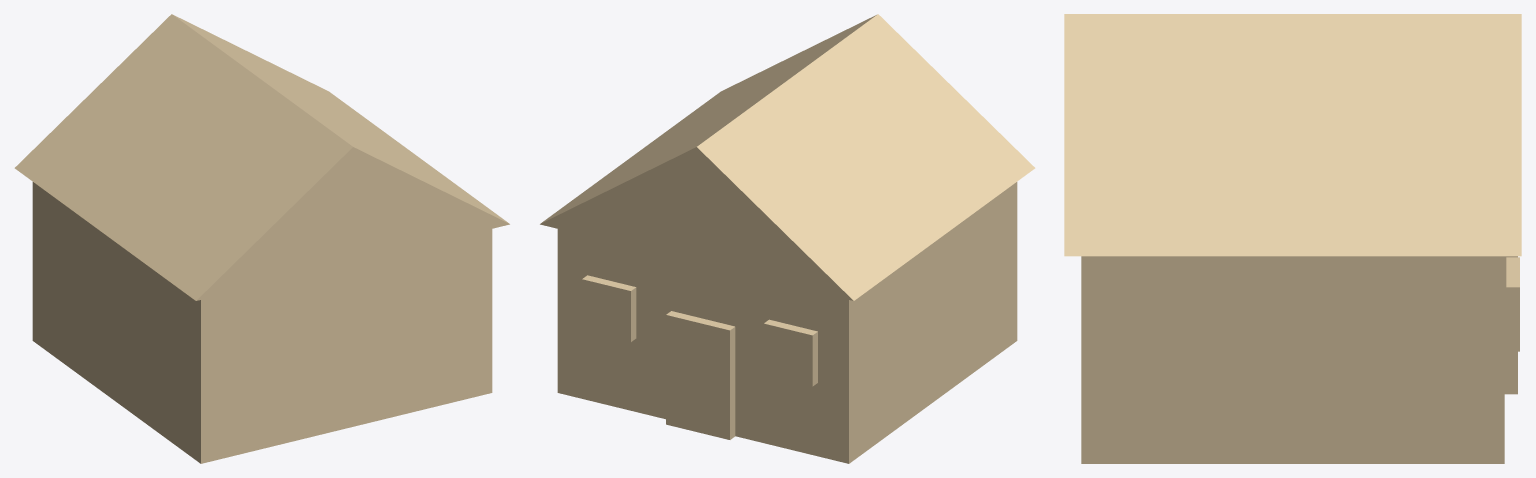
File: demo-house.glb
3 renders of one model, left to right at view 1: azimuth 30°, elevation 25°; view 2: azimuth 150°, elevation 25°; view 3: azimuth 270°, elevation 25°, orthographic. The views are drawn at different scales.
Parts seen in each view (by area): view 1: Demo House; view 2: Demo House; view 3: Demo House.
Boxes of the visible parts, box(x1,y1,x2,y2) form: Demo House: box(14, 14, 509, 463); Demo House: box(540, 14, 1035, 463); Demo House: box(1064, 14, 1521, 463).
Size of the model in its own units: 2.7 by 2.35 by 2.7.
